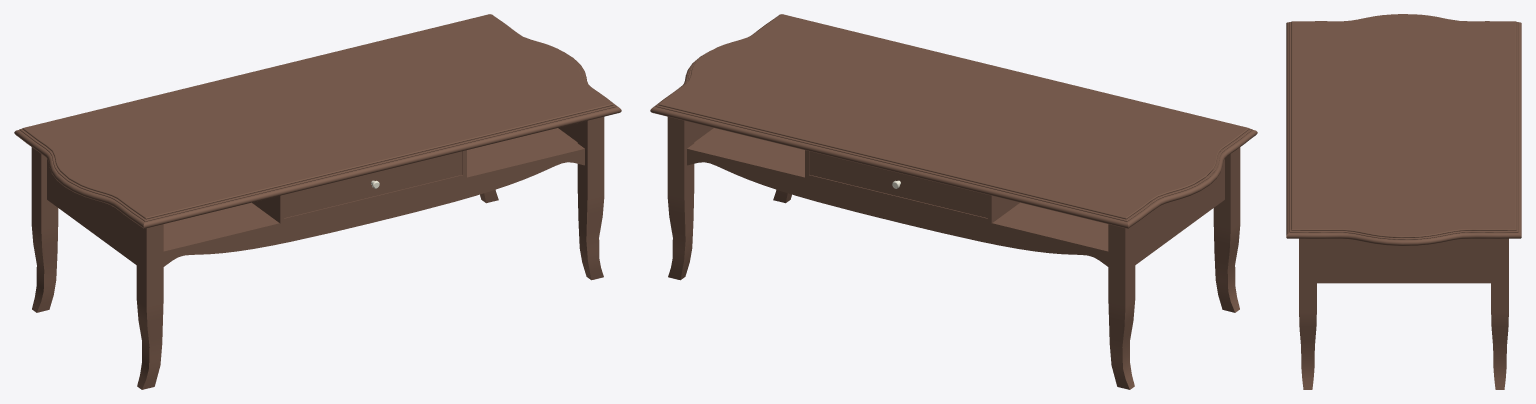
File: 417_センターテーブル.glb
3 views of the same model, side by side, from view 1: azimuth 30°, elevation 25°; view 2: azimuth 150°, elevation 25°; view 3: azimuth 270°, elevation 25° (orthographic). The views are drawn at different scales.
Visible parts, largest first — view 1: 417_センターテーブル, 引き出し表; view 2: 417_センターテーブル, 引き出し裏; view 3: 417_センターテーブル.
Boxes of the visible parts, bbox=[...] form: 417_センターテーブル: bbox=[14, 14, 621, 389]; 引き出し表: bbox=[276, 150, 466, 223]; 417_センターテーブル: bbox=[650, 14, 1257, 389]; 引き出し裏: bbox=[805, 150, 995, 223]; 417_センターテーブル: bbox=[1286, 14, 1521, 389].
Size of the model in its own units: 1.21 by 0.3999 by 0.5275.
